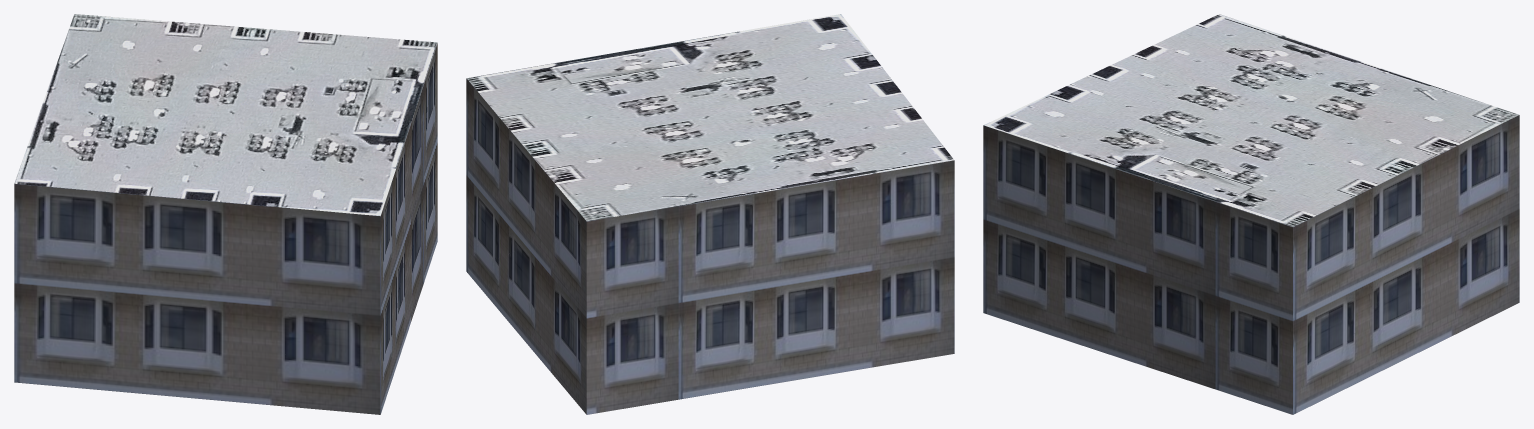
The model's file is ResTex__1333.fbx.
The picture shows the model from 3 angles, left to right: view 1: azimuth 30°, elevation 25°; view 2: azimuth 150°, elevation 25°; view 3: azimuth 270°, elevation 25°; orthographic projection. The views are drawn at different scales.
Parts seen in each view (by area): view 1: CityEngineMaterial_3_m, CityEngineMaterial_m; view 2: CityEngineMaterial_3_m, CityEngineMaterial_m; view 3: CityEngineMaterial_3_m, CityEngineMaterial_m.
Boxes of the visible parts, x1=… form: CityEngineMaterial_3_m: x1=14, y1=43, x2=437, y2=414; CityEngineMaterial_m: x1=14, y1=14, x2=437, y2=216; CityEngineMaterial_3_m: x1=466, y1=78, x2=954, y2=414; CityEngineMaterial_m: x1=467, y1=14, x2=953, y2=221; CityEngineMaterial_3_m: x1=983, y1=115, x2=1519, y2=414; CityEngineMaterial_m: x1=984, y1=14, x2=1518, y2=226.
Bounding box in the file's own units: 14.61 × 6 × 15.52.
2 materials, 2 textured.
